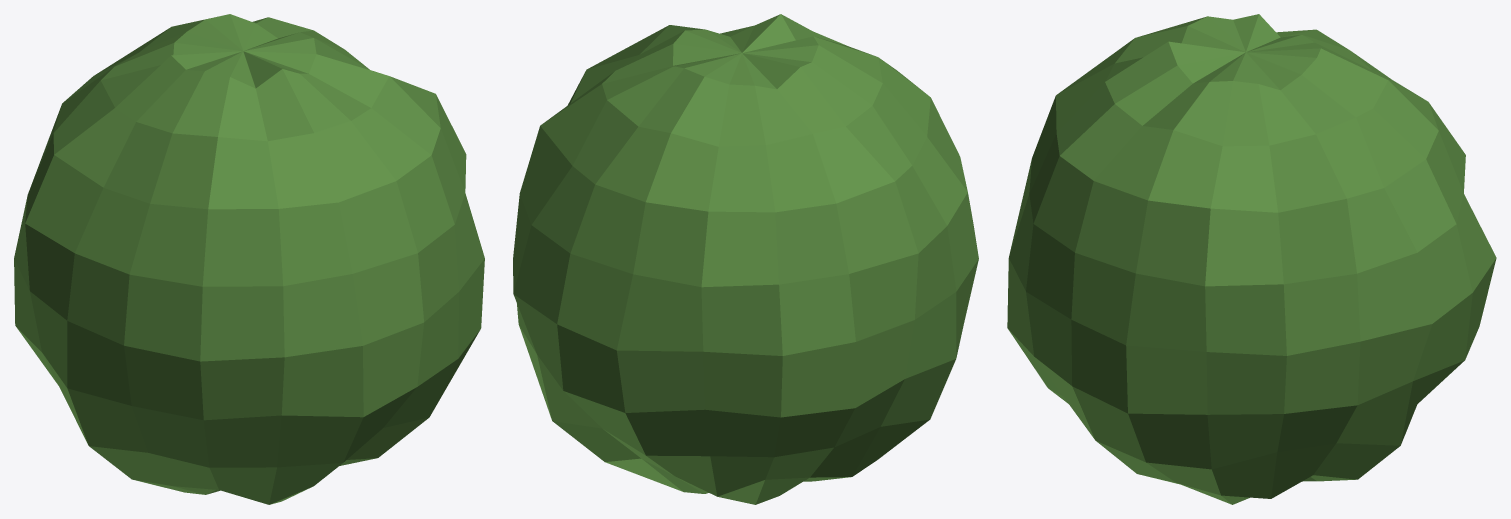
File: hill_green.fbx
3 renders of one model, left to right at view 1: azimuth 30°, elevation 25°; view 2: azimuth 150°, elevation 25°; view 3: azimuth 270°, elevation 25°, orthographic.
Parts seen in each view (by area): view 1: hill_green; view 2: hill_green; view 3: hill_green.
Boxes of the visible parts, x1,y1,x2,y2 form: hill_green: [14, 14, 484, 504]; hill_green: [513, 14, 978, 504]; hill_green: [1007, 14, 1496, 504].
Size of the model in its own units: 1.94 by 2.05 by 2.06.
